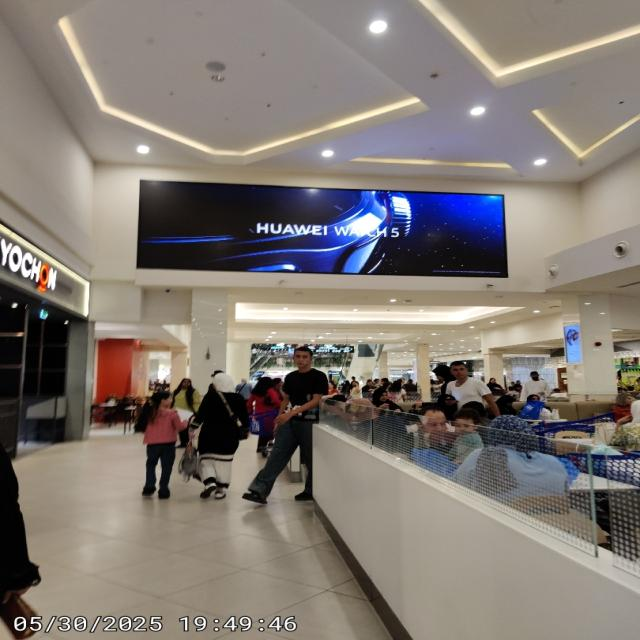rectangle-wide-board: (136, 178, 505, 272)
